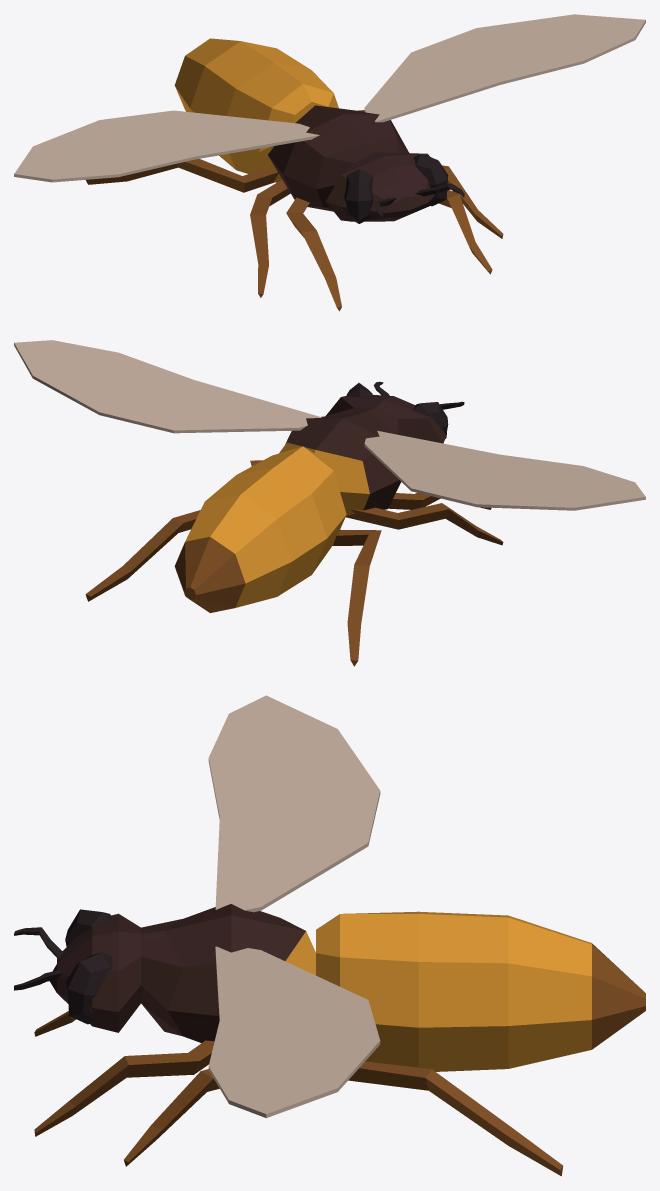
The model's file is aaOOAVp0I7p.glb.
3 renders of one model, top to bottom at view 1: azimuth 30°, elevation 25°; view 2: azimuth 150°, elevation 25°; view 3: azimuth 270°, elevation 25°, orthographic. The views are drawn at different scales.
Parts seen in each view (by area): view 1: Geo_Bee; view 2: Geo_Bee; view 3: Geo_Bee.
Part boxes in pixels (left/top/right/bottom): Geo_Bee: left=14, top=14, right=645, bottom=311; Geo_Bee: left=14, top=340, right=645, bottom=666; Geo_Bee: left=14, top=695, right=645, bottom=1176.
Size of the model in its own units: 4.9 by 0.9997 by 3.12.
Materials: 2 (1 with a texture image).
